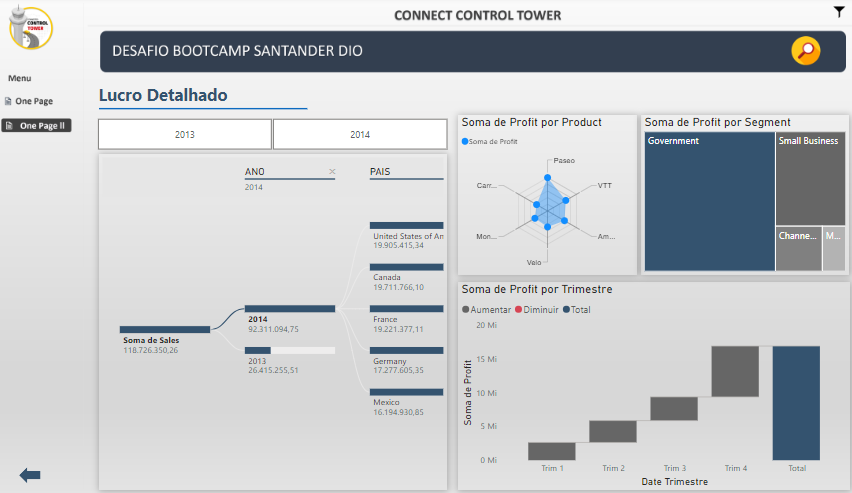

Layout of this report page (visuals, bound fields, positions):
{"tool":"powerbi","page":{"name":"ONE PAGE 2","canvas":[1280,720],"ordinal":1},"visuals":[{"type":"image","box":[0,0,1280,720],"z":0},{"type":"decompositionTreeVisual","fields":{"ExplainBy":["financials.Year","financials.Country"],"Analyze":["Sum(financials. Sales)"]},"box":[166.2,225,501.2,483.8],"z":1000},{"type":"textbox","box":[160,116.2,391.2,52.5],"z":2000},{"type":"shape","box":[165,151.2,300,16.2],"z":3000},{"type":"slicer","fields":{"Values":["financials.Year"]},"box":[138.8,167.5,552.5,57.5],"z":4000},{"type":"waterfallChart","fields":{"Y":["Sum(financials.Profit)"],"Category":["financials.Date.Variation.Hierarquia de datas.Trimestre"]},"box":[682.5,408.8,563.8,300],"z":5000},{"type":"treemap","fields":{"Group":["financials.Segment"],"Values":["Sum(financials.Profit)"]},"box":[946.2,168.8,300,230],"z":6000},{"type":"RadarChart1446119667547","fields":{"Category":["financials.Product"],"Y":["Sum(financials.Profit)"]},"box":[682.5,168.8,257.5,230],"z":7000},{"type":"shape","box":[50,675,31.2,23.8],"z":8000}]}

Visuals, with their boxes on the page's 1280x720 design canvas (x1, y1, x2, y2). These are canvas units, not pixel positions in the 852x493 screenshot, which may show the page scaled, cropped or inside an application window:
image: <bbox>0, 0, 1280, 720</bbox>
decompositionTreeVisual - financials.Year x financials.Country: <bbox>166, 225, 667, 709</bbox>
textbox: <bbox>160, 116, 551, 169</bbox>
shape: <bbox>165, 151, 465, 167</bbox>
slicer - financials.Year: <bbox>139, 168, 691, 225</bbox>
waterfallChart - Sum(financials.Profit) x financials.Date.Variation.Hierarquia de datas.Trimestre: <bbox>682, 409, 1246, 709</bbox>
treemap - financials.Segment x Sum(financials.Profit): <bbox>946, 169, 1246, 399</bbox>
RadarChart1446119667547 - financials.Product x Sum(financials.Profit): <bbox>682, 169, 940, 399</bbox>
shape: <bbox>50, 675, 81, 699</bbox>
